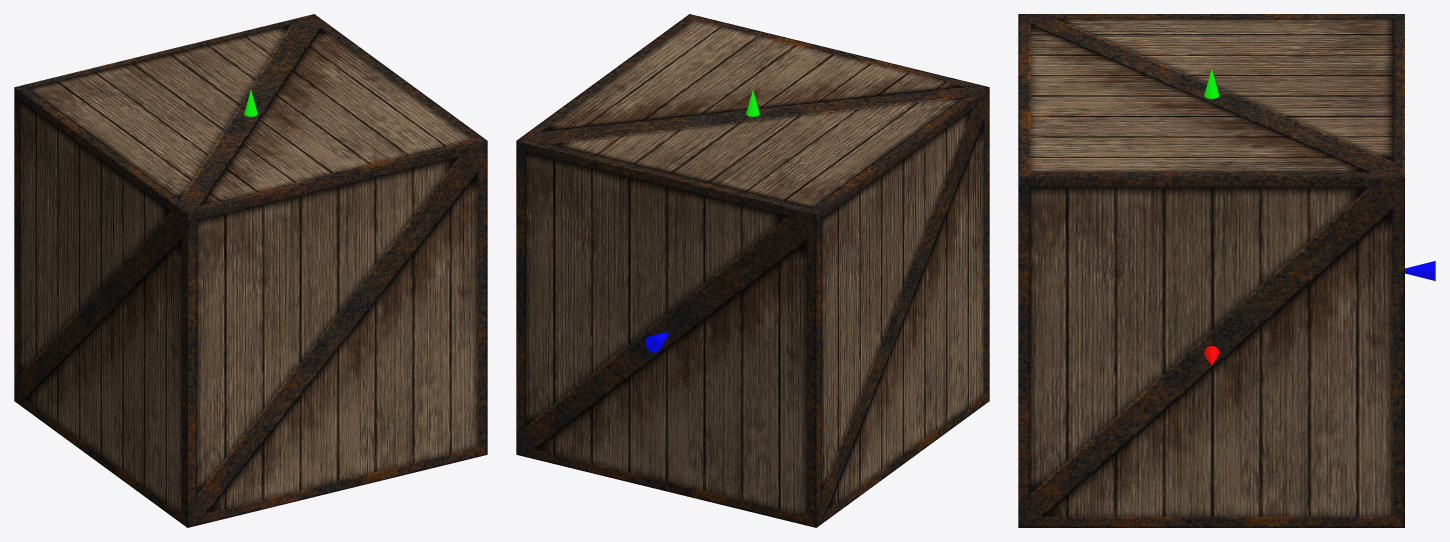
The model's file is epic.gltf.
3 views of the same model, side by side, from view 1: azimuth 30°, elevation 25°; view 2: azimuth 150°, elevation 25°; view 3: azimuth 270°, elevation 25° (orthographic). The views are drawn at different scales.
Parts seen in each view (by area): view 1: MyBox; view 2: MyBox; view 3: MyBox.
Part boxes in pixels (x1,y1,x2,y2): MyBox: [14, 14, 487, 527]; MyBox: [516, 14, 989, 527]; MyBox: [1018, 14, 1404, 527].
Size of the model in its own units: 10.79 by 10.79 by 10.79.
9 materials, 1 textured.
